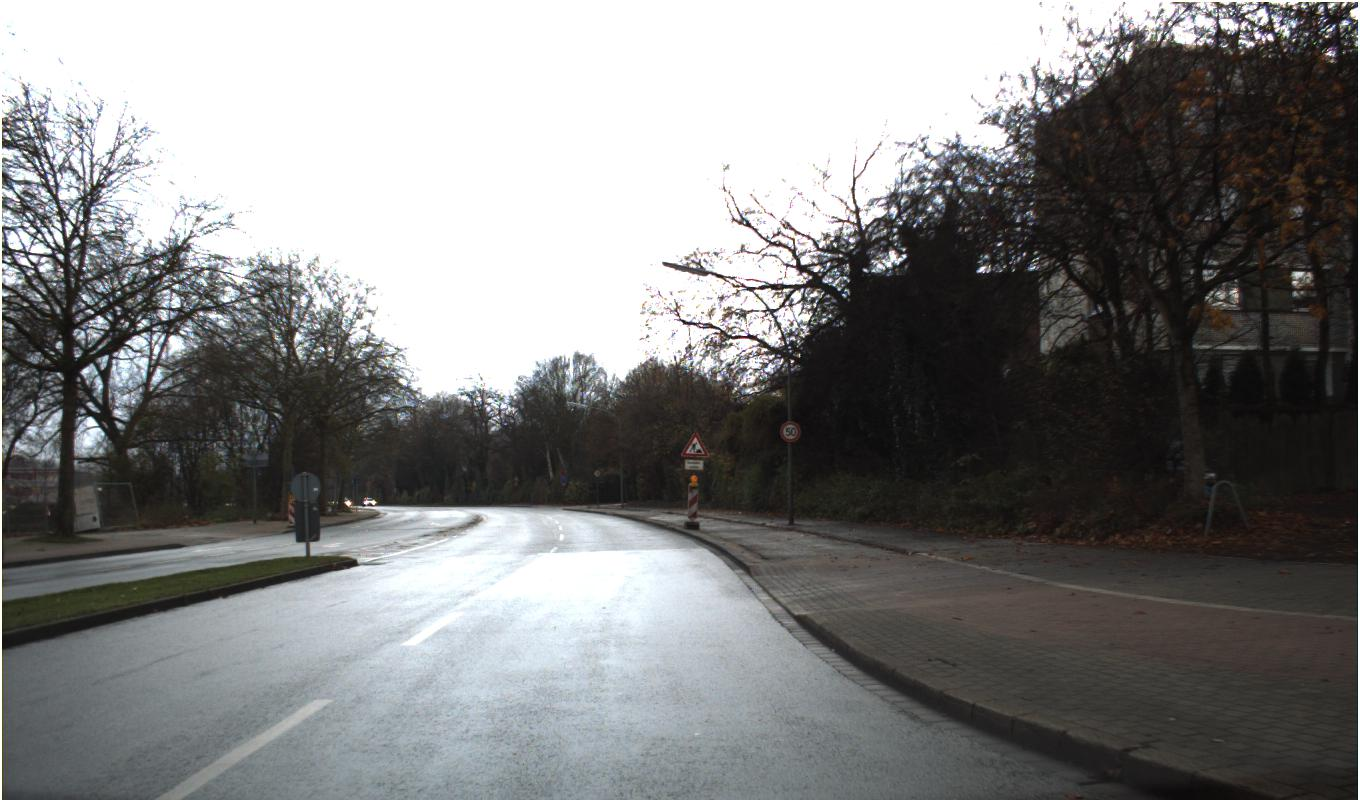danger: (680, 430, 710, 458)
prohibitory: (779, 420, 801, 443)
